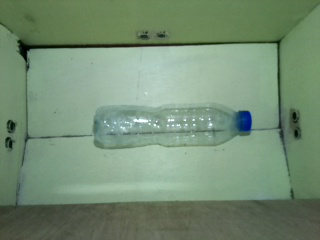bottle: (93, 101, 253, 152)
